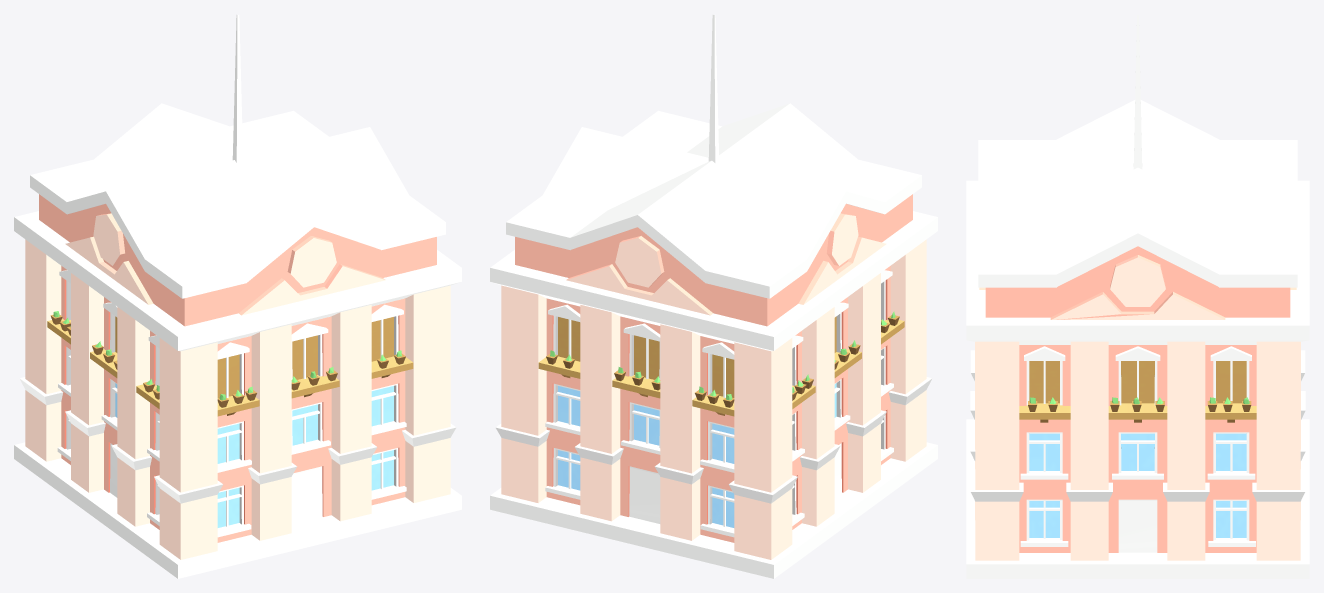
Rendered from art.009.glb.
The picture shows the model from 3 angles, left to right: view 1: azimuth 30°, elevation 25°; view 2: azimuth 150°, elevation 25°; view 3: azimuth 270°, elevation 25°; orthographic projection. The views are drawn at different scales.
Parts seen in each view (by area): view 1: art.009(Clone); view 2: art.009(Clone); view 3: art.009(Clone).
Part boxes in pixels (<box>): art.009(Clone): <box>14,15,461,578</box>; art.009(Clone): <box>490,15,937,578</box>; art.009(Clone): <box>966,15,1309,578</box>.
Bounding box in the file's own units: 11.71 × 18.52 × 11.71.
1 material, 1 textured.
